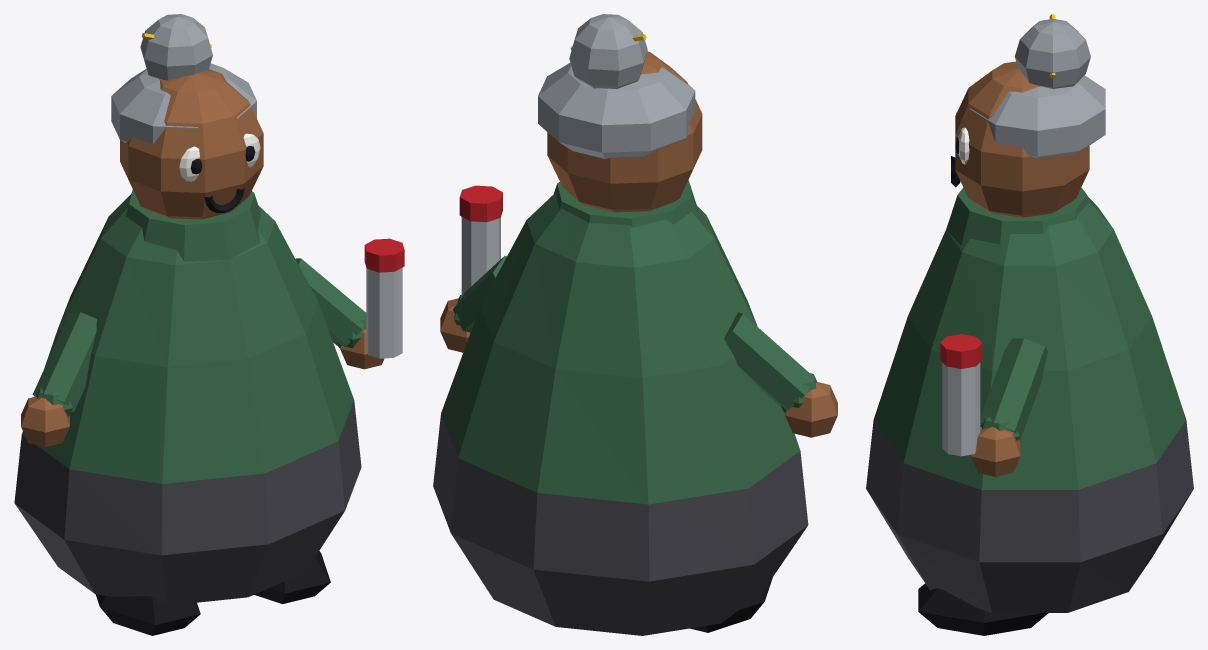
The model's file is npc_ajedrecista_b.glb.
The picture shows the model from 3 angles, left to right: view 1: azimuth 30°, elevation 25°; view 2: azimuth 150°, elevation 25°; view 3: azimuth 270°, elevation 25°; orthographic projection. The views are drawn at different scales.
Visible parts, largest first — view 1: body_turtleneck_green, body_skirt_grey, head_skin_cacao, head_hair_gray, arms_turtleneck_green, legs_black, props_thermos_steel, arms_skin_cacao, props_thermos_cap, face_white, face_black; view 2: body_turtleneck_green, body_skirt_grey, head_hair_gray, head_skin_cacao, arms_turtleneck_green, arms_skin_cacao, props_thermos_steel, props_thermos_cap, legs_black; view 3: body_turtleneck_green, body_skirt_grey, head_hair_gray, head_skin_cacao, arms_turtleneck_green, props_thermos_steel, legs_black, arms_skin_cacao, props_thermos_cap.
Boxes of the visible parts, <box> form: body_turtleneck_green: <box>22,189,353,483</box>; body_skirt_grey: <box>14,400,361,604</box>; head_skin_cacao: <box>120,69,263,219</box>; head_hair_gray: <box>111,14,256,144</box>; arms_turtleneck_green: <box>32,258,366,417</box>; legs_black: <box>95,551,330,635</box>; props_thermos_steel: <box>366,267,402,358</box>; arms_skin_cacao: <box>21,329,384,446</box>; props_thermos_cap: <box>364,238,404,272</box>; face_white: <box>179,133,260,181</box>; face_black: <box>191,146,255,213</box>; body_turtleneck_green: <box>441,180,800,504</box>; body_skirt_grey: <box>433,414,808,635</box>; head_hair_gray: <box>538,14,695,158</box>; head_skin_cacao: <box>547,51,702,212</box>; arms_turtleneck_green: <box>453,256,816,412</box>; arms_skin_cacao: <box>440,298,837,437</box>; props_thermos_steel: <box>461,217,500,294</box>; props_thermos_cap: <box>459,185,502,222</box>; legs_black: <box>690,577,772,632</box>; body_turtleneck_green: <box>873,187,1186,489</box>; body_skirt_grey: <box>866,420,1193,612</box>; head_hair_gray: <box>969,18,1105,158</box>; head_skin_cacao: <box>955,61,1089,217</box>; arms_turtleneck_green: <box>980,338,1047,440</box>; props_thermos_steel: <box>942,362,980,456</box>; legs_black: <box>918,583,1048,635</box>; arms_skin_cacao: <box>971,426,1020,476</box>; props_thermos_cap: <box>940,334,982,368</box>.
Bounding box in the file's own units: 1.13 × 1.66 × 0.86.
